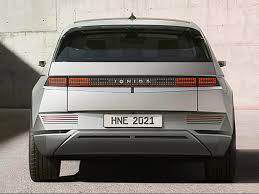Honda Ioniq: (25, 6, 242, 188)
